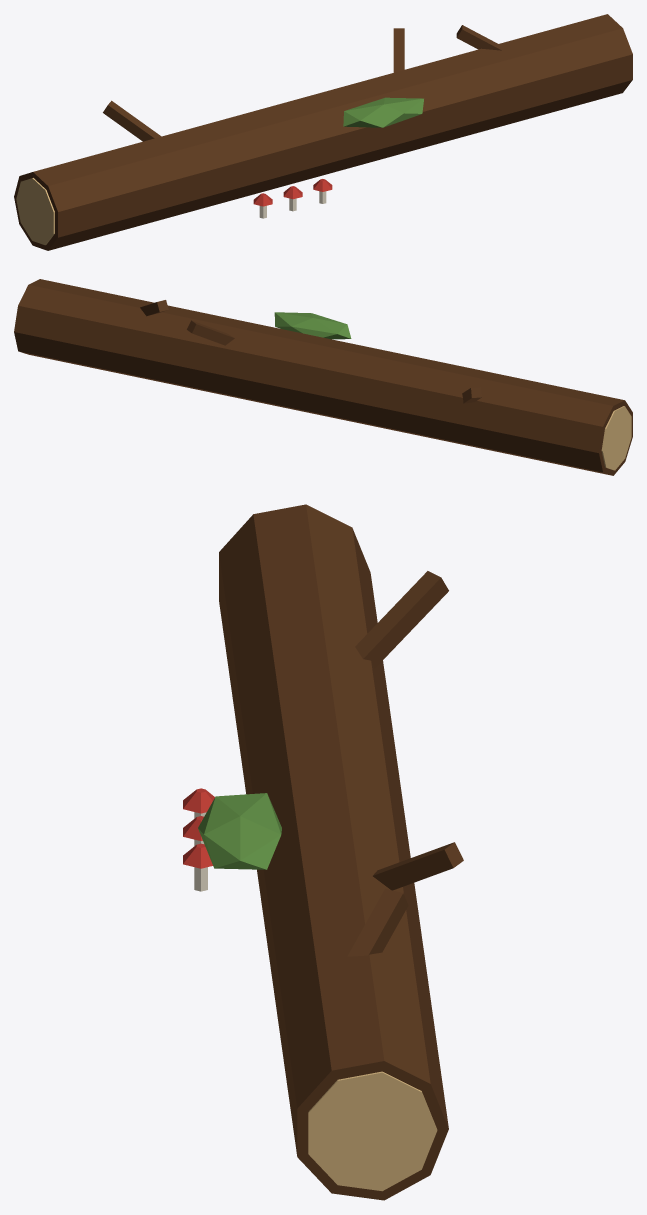
File: Nature_FallenLog.fbx
3 renders of one model, top to bottom at view 1: azimuth 30°, elevation 25°; view 2: azimuth 150°, elevation 25°; view 3: azimuth 270°, elevation 25°, orthographic. The views are drawn at different scales.
Visible parts, largest first — view 1: Nature_FallenLog; view 2: Nature_FallenLog; view 3: Nature_FallenLog.
Boxes of the visible parts, x1=… form: Nature_FallenLog: x1=14, y1=14, x2=632, y2=250; Nature_FallenLog: x1=14, y1=279, x2=632, y2=475; Nature_FallenLog: x1=183, y1=504, x2=463, y2=1200.
Size of the model in its own units: 5.05 by 0.75 by 1.08.
